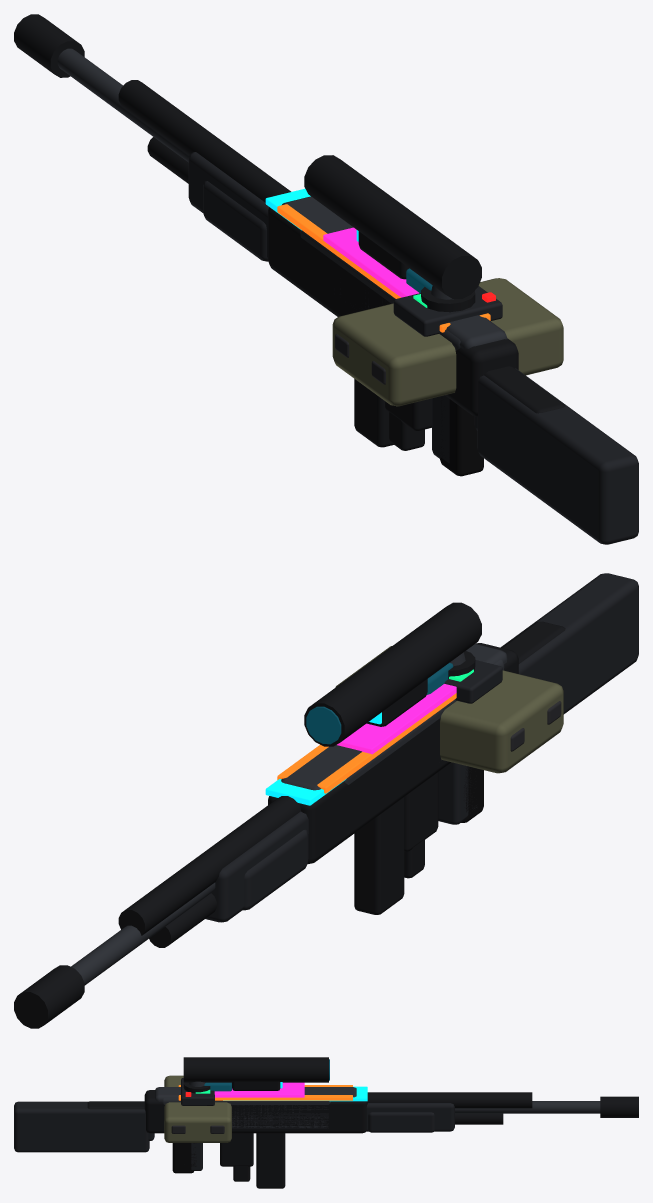
Rendered from weapons.glb.
The picture shows the model from 3 angles, top to bottom: view 1: azimuth 30°, elevation 25°; view 2: azimuth 150°, elevation 25°; view 3: azimuth 270°, elevation 25°; orthographic projection. The views are drawn at different scales.
Parts seen in each view (by area): view 1: Stock (×3), Charge, Receiver (×3), Scope, Barrel (×2), Mag (×3), Grip (×2), Strip (×2), Pump, Brake, Handguard, Pad (+3 smaller); view 2: Stock (×3), Receiver (×3), Charge, Scope, Barrel (×2), Mag (×2), Strip (×3), Handguard, Brake, Pump, Grip (×2), Pad (+3 smaller); view 3: Stock (×3), Receiver (×3), Scope, Barrel (×2), Mag (×3), Charge, Strip (×3), Pump, Handguard, Grip (×2), Brake, Optic (×2) (+2 smaller).
Boxes of the visible parts, bbox=[...] form: Stock (×3): bbox=[477, 366, 638, 544]; Charge: bbox=[332, 278, 563, 406]; Receiver (×3): bbox=[268, 196, 518, 416]; Scope: bbox=[304, 155, 481, 298]; Barrel (×2): bbox=[57, 48, 291, 202]; Mag (×3): bbox=[354, 379, 431, 450]; Grip (×2): bbox=[432, 395, 483, 476]; Strip (×2): bbox=[277, 204, 490, 332]; Pump: bbox=[203, 181, 268, 261]; Brake: bbox=[14, 14, 84, 77]; Handguard: bbox=[188, 152, 268, 258]; Pad: bbox=[393, 286, 502, 336]; Stock (×3): bbox=[500, 573, 638, 714]; Receiver (×3): bbox=[268, 643, 518, 864]; Charge: bbox=[335, 646, 563, 773]; Scope: bbox=[304, 602, 481, 746]; Barrel (×2): bbox=[71, 796, 300, 985]; Mag (×2): bbox=[354, 772, 438, 914]; Strip (×3): bbox=[265, 684, 456, 805]; Handguard: bbox=[205, 811, 308, 922]; Brake: bbox=[14, 965, 84, 1028]; Pump: bbox=[243, 829, 308, 910]; Grip (×2): bbox=[438, 762, 483, 824]; Pad: bbox=[444, 660, 502, 703]; Stock (×3): bbox=[14, 1101, 149, 1152]; Receiver (×3): bbox=[144, 1087, 367, 1133]; Scope: bbox=[183, 1057, 328, 1082]; Barrel (×2): bbox=[367, 1092, 600, 1113]; Mag (×3): bbox=[220, 1133, 285, 1188]; Charge: bbox=[164, 1075, 231, 1142]; Strip (×3): bbox=[178, 1082, 367, 1101]; Pump: bbox=[368, 1112, 434, 1132]; Handguard: bbox=[366, 1103, 454, 1131]; Grip (×2): bbox=[172, 1143, 202, 1173]; Brake: bbox=[600, 1096, 638, 1117]; Optic (×2): bbox=[204, 1081, 280, 1091].
Bounding box in the file's own units: 0.225 × 0.291 × 1.29.
